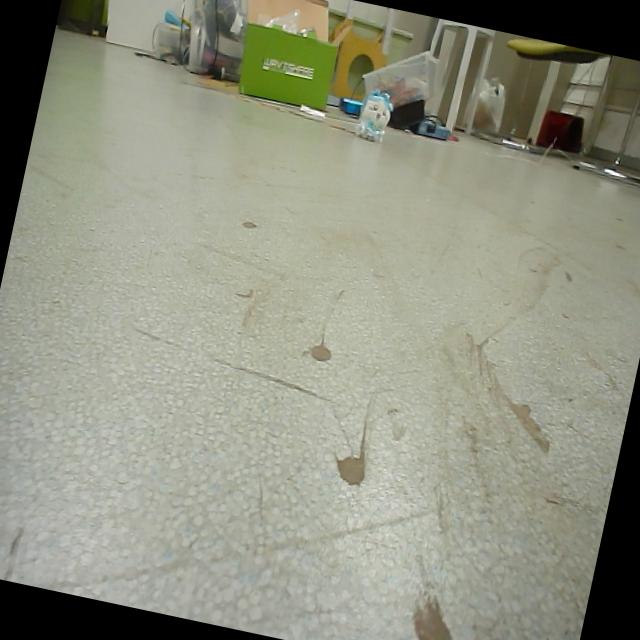xiaoba: (354, 89, 396, 146)
